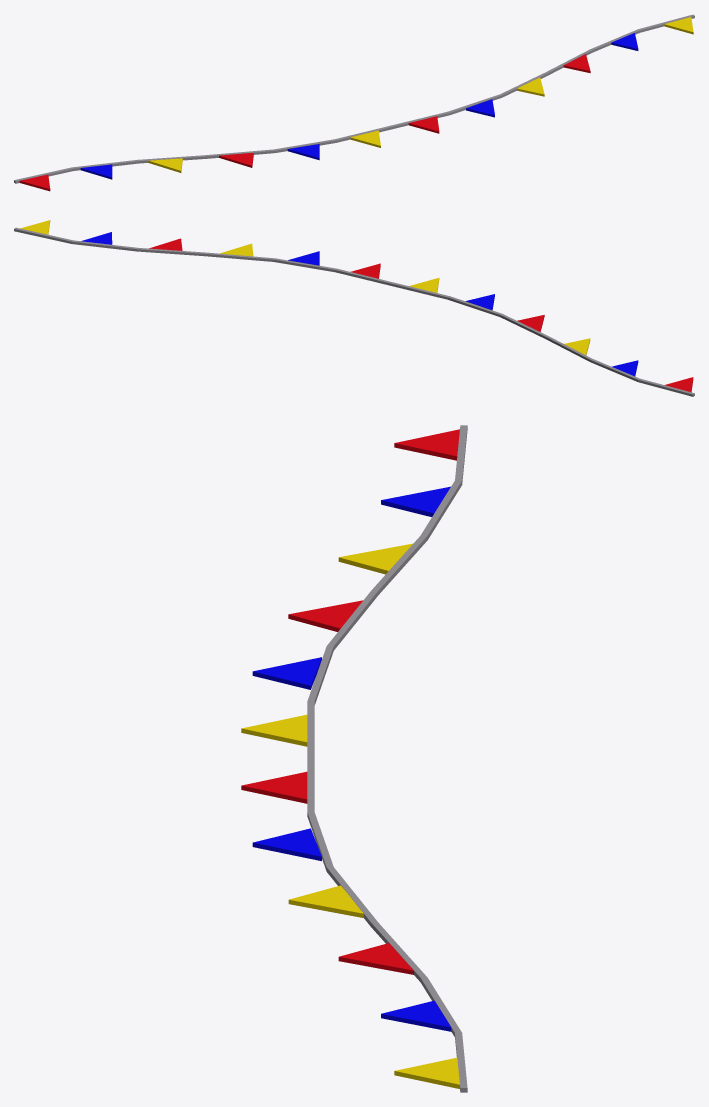
File: Banderitas.fbx
3 views of the same model, one above another, from view 1: azimuth 30°, elevation 25°; view 2: azimuth 150°, elevation 25°; view 3: azimuth 270°, elevation 25° (orthographic). The views are drawn at different scales.
Visible parts, largest first — view 1: Plane.001, Plane.002; view 2: Plane.002, Plane.001; view 3: Plane.001, Plane.002.
Part boxes in pixels (x1=…): Plane.001: x1=19, y1=17, x2=693, y2=191; Plane.002: x1=14, y1=14, x2=694, y2=183; Plane.002: x1=14, y1=227, x2=694, y2=396; Plane.001: x1=20, y1=220, x2=693, y2=392; Plane.001: x1=241, y1=429, x2=459, y2=1088; Plane.002: x1=307, y1=425, x2=467, y2=1092.
Bounding box in the file's own units: 4646 × 15.34 × 670.
